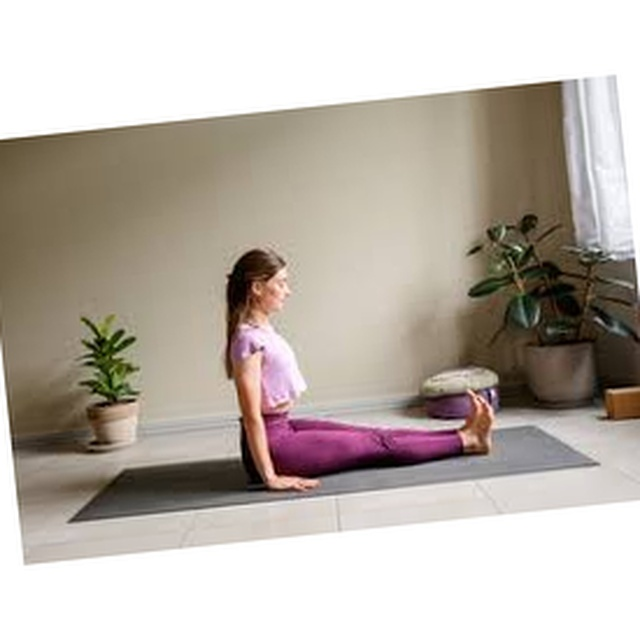Staff_Pose: (226, 248, 496, 490)
